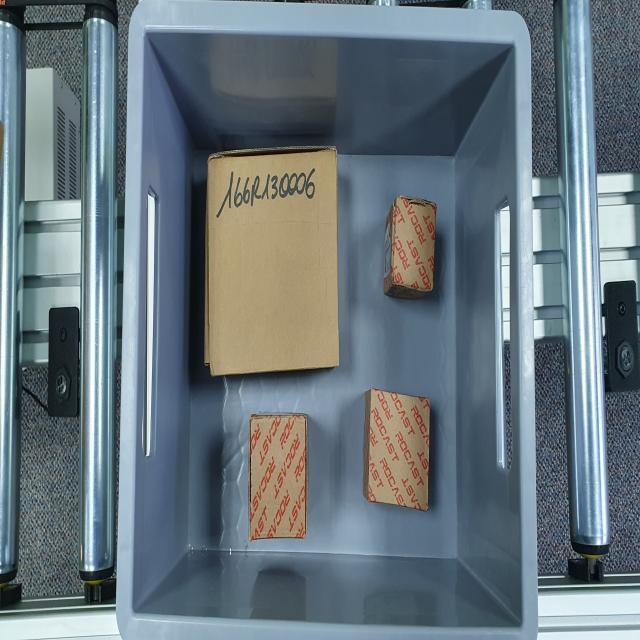box: (206, 156, 343, 374), (367, 388, 433, 516), (249, 419, 308, 544), (396, 191, 436, 293)
